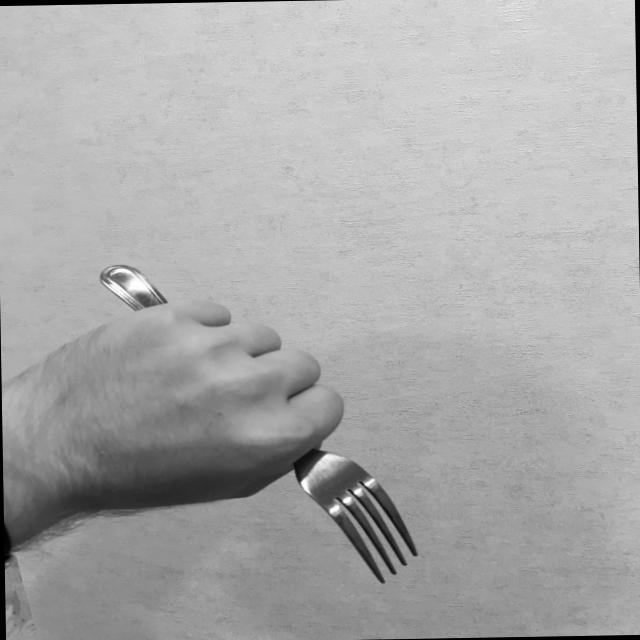fork: (99, 257, 418, 590)
